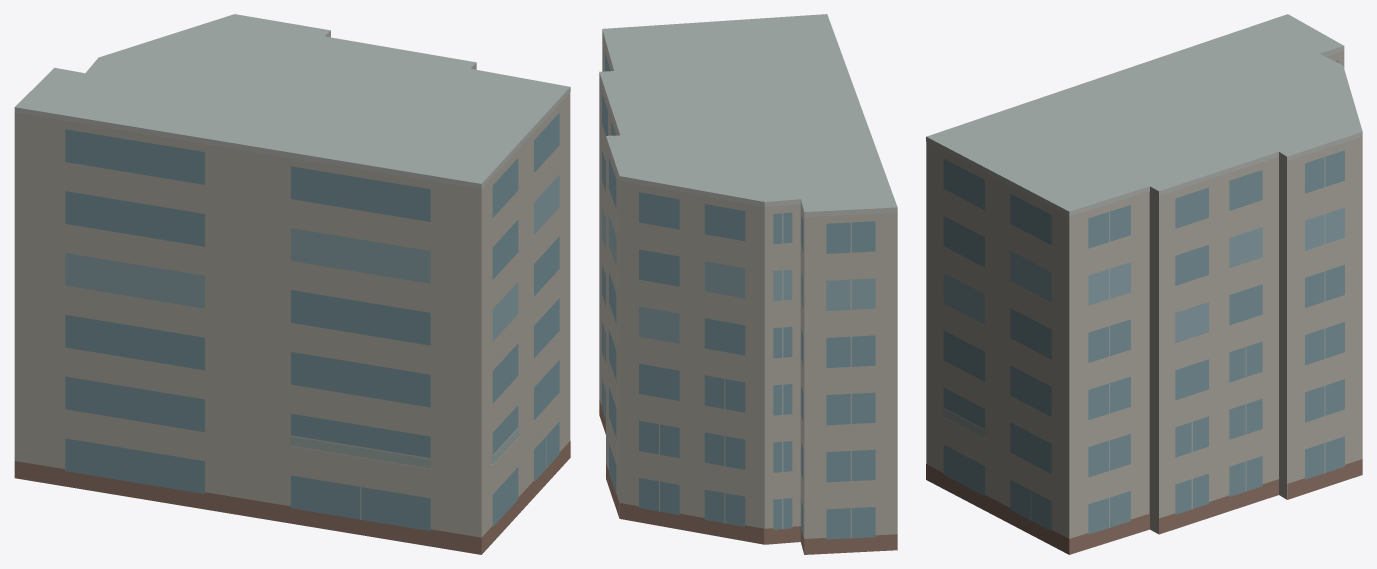
The model's file is survey-upis-32729151.glb.
3 renders of one model, left to right at view 1: azimuth 30°, elevation 25°; view 2: azimuth 150°, elevation 25°; view 3: azimuth 270°, elevation 25°, orthographic. The views are drawn at different scales.
Visible parts, largest first — view 1: survey-upis-32729151.tmp; view 2: survey-upis-32729151.tmp; view 3: survey-upis-32729151.tmp.
Boxes of the visible parts, bbox=[...] form: survey-upis-32729151.tmp: bbox=[14, 14, 570, 554]; survey-upis-32729151.tmp: bbox=[599, 14, 897, 554]; survey-upis-32729151.tmp: bbox=[926, 14, 1362, 554].
Bounding box in the file's own units: 21.13 × 17.1 × 19.72.
